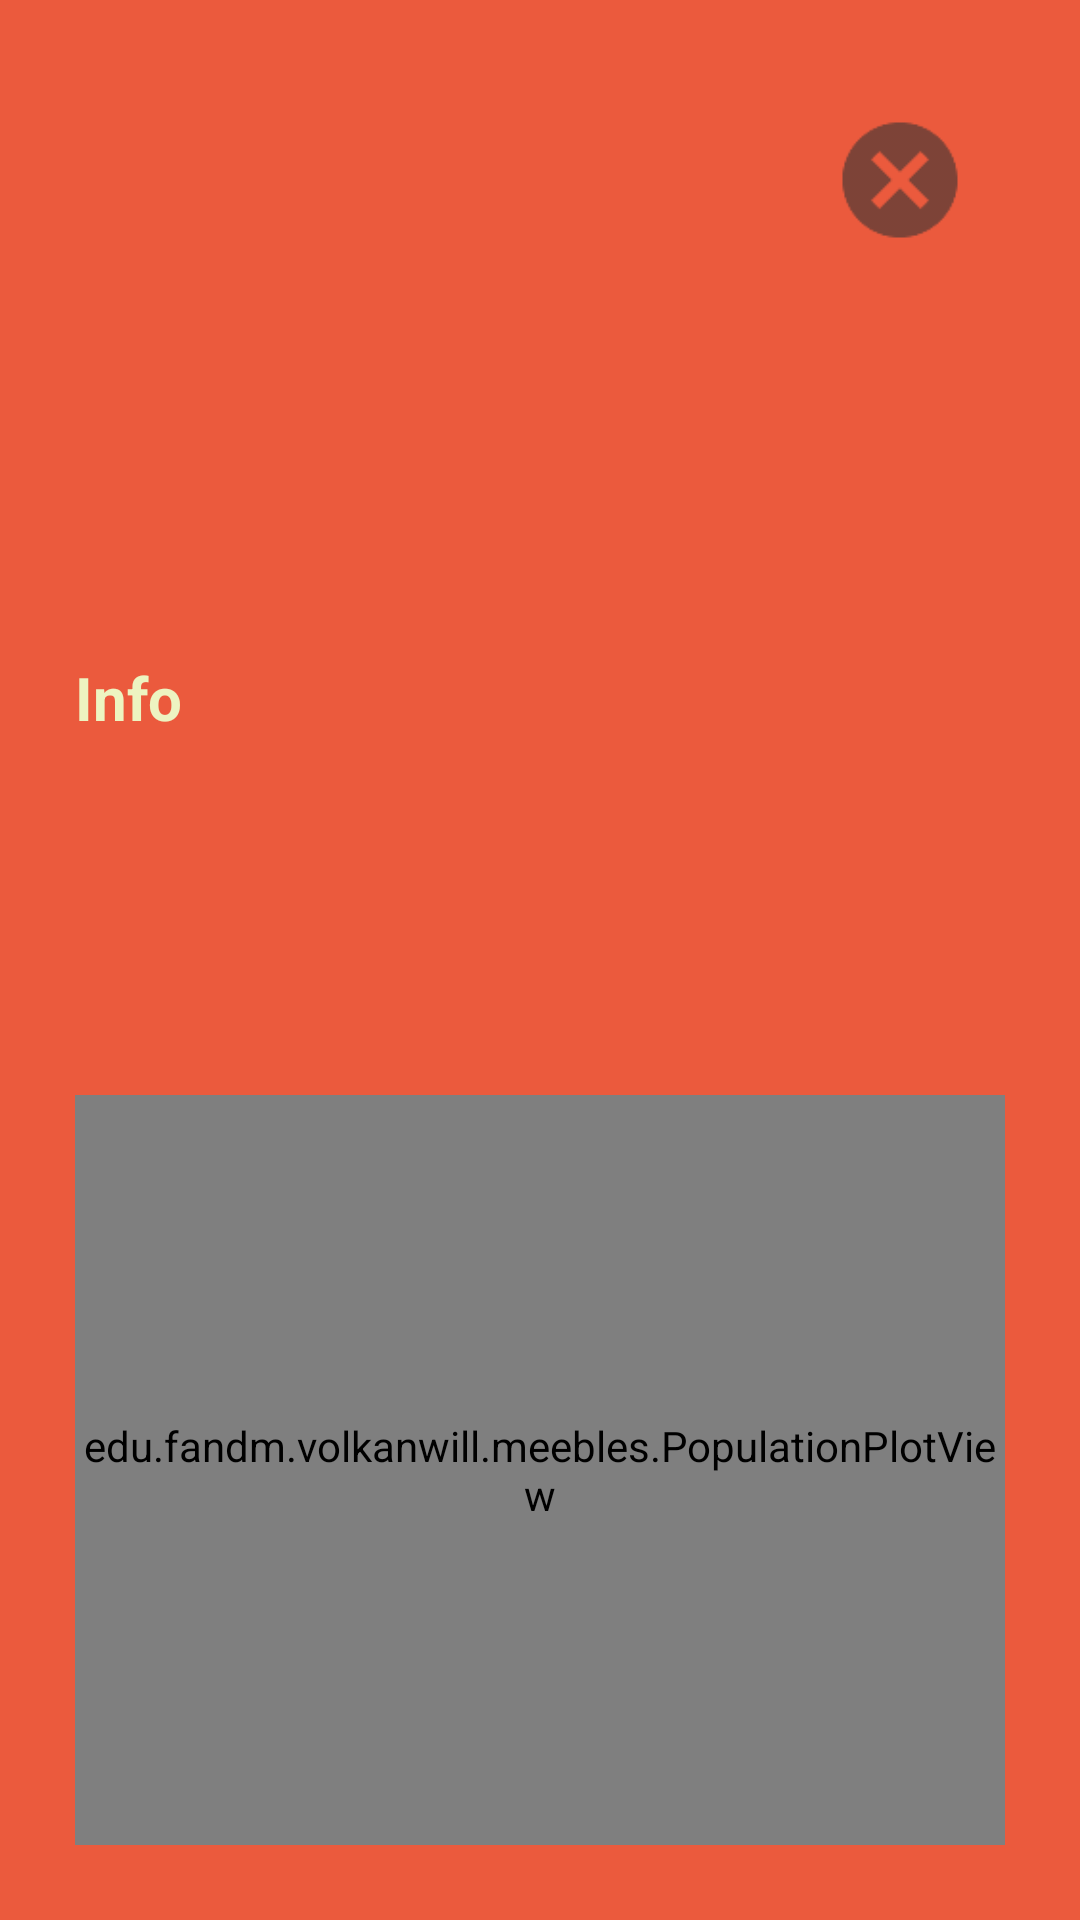

Icon click points for this 1080×1920 phone screenshot, format (x,y):
info close: (900,180)
